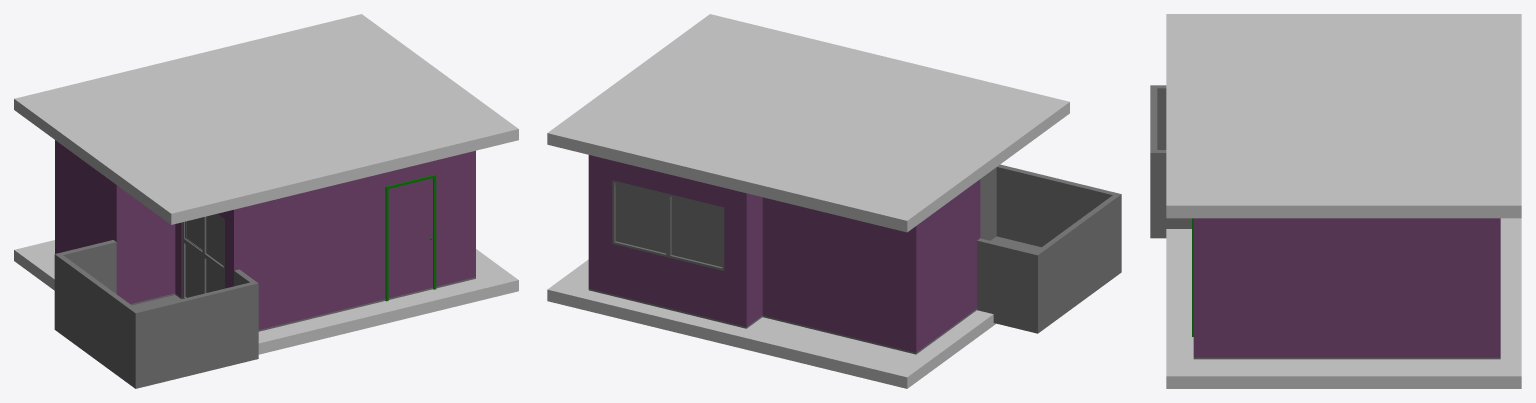
Rendered from FloorPlan221.fbx.
3 renders of one model, left to right at view 1: azimuth 30°, elevation 25°; view 2: azimuth 150°, elevation 25°; view 3: azimuth 270°, elevation 25°, orthographic. The views are drawn at different scales.
Parts seen in each view (by area): view 1: Ceiling, StandardWallSize, Balcony, Floor, Window2, StandardDoorFrame1; view 2: Ceiling, StandardWallSize, Balcony, Floor, Window1; view 3: Ceiling, StandardWallSize, Floor, Balcony.
Part boxes in pixels (x1=…): Ceiling: x1=14, y1=14, x2=518, y2=224; StandardWallSize: x1=55, y1=140, x2=475, y2=331; Balcony: x1=54, y1=240, x2=258, y2=388; Floor: x1=14, y1=240, x2=518, y2=354; Window2: x1=182, y1=213, x2=224, y2=298; StandardDoorFrame1: x1=385, y1=174, x2=436, y2=301; Ceiling: x1=547, y1=14, x2=1069, y2=232; StandardWallSize: x1=588, y1=155, x2=980, y2=354; Balcony: x1=977, y1=164, x2=1121, y2=333; Floor: x1=547, y1=259, x2=995, y2=388; Window1: x1=612, y1=180, x2=724, y2=270; Ceiling: x1=1166, y1=14, x2=1521, y2=218; StandardWallSize: x1=1193, y1=218, x2=1500, y2=359; Floor: x1=1166, y1=218, x2=1521, y2=388; Balcony: x1=1150, y1=85, x2=1191, y2=238.
Bounding box in the file's own units: 730 × 290 × 532.
